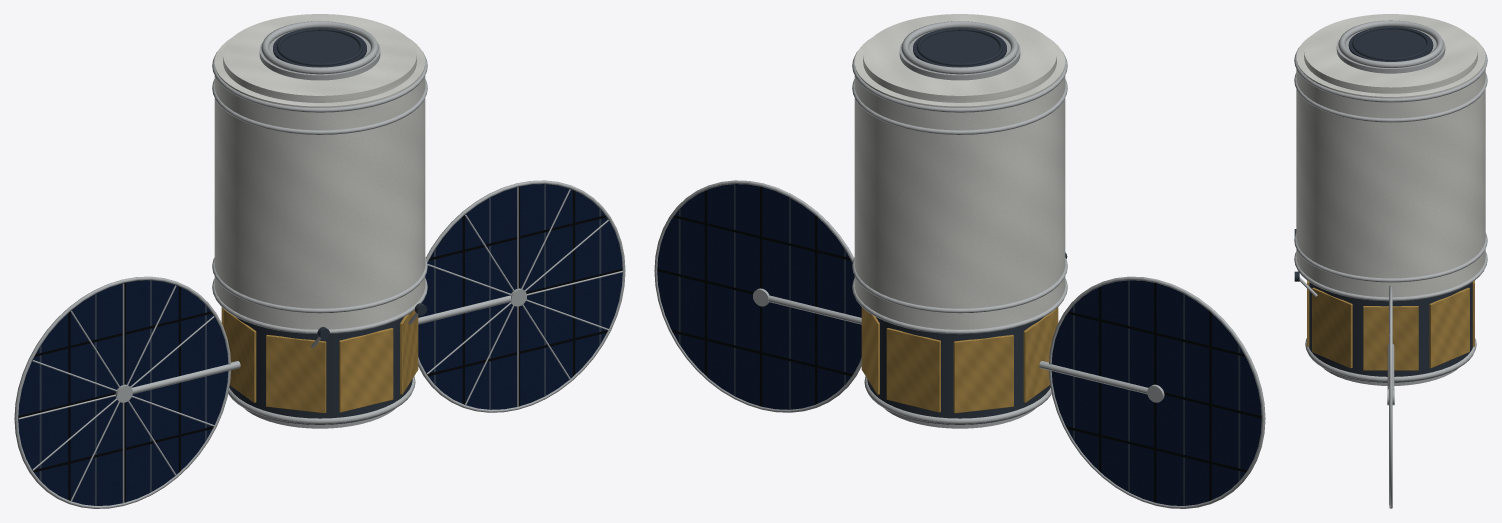
Rendered from cargo_spacecraft_base.glb.
3 views of the same model, side by side, from view 1: azimuth 30°, elevation 25°; view 2: azimuth 150°, elevation 25°; view 3: azimuth 270°, elevation 25° (orthographic). The views are drawn at different scales.
Visible parts, largest first — view 1: Cargo_PressureHull, SolarArray_Disc, SolarArray_Disc.001, Cargo_EndCap, Service_Thermal_Panel.005, Service_Section, Service_Thermal_Panel.006, SolarArray_Rim, Berthing_DarkAperture, SolarArray_Rim.001, Service_Thermal_Panel.004, Berthing_OuterRing (+10 smaller); view 2: Cargo_PressureHull, SolarArray_Disc, SolarArray_Disc.001, Cargo_EndCap, Service_Section, Service_Thermal_Panel.003, Service_Thermal_Panel.002, SolarArray_Rim, Berthing_DarkAperture, SolarArray_Rim.001, Service_Thermal_Panel.004, Berthing_OuterRing (+10 smaller); view 3: Cargo_PressureHull, Cargo_EndCap, Service_Section, Service_Thermal_Panel, Service_Thermal_Panel.001, Service_Thermal_Panel.007, Berthing_DarkAperture, Berthing_OuterRing, Service_Rim, Cargo_HullRing.003, Cargo_HullRing.002, Cargo_HullRing.001 (+5 smaller).
Part boxes in pixels (x1,y1,x2,y2): Cargo_PressureHull: [214, 37, 425, 329]; SolarArray_Disc: [18, 280, 228, 505]; SolarArray_Disc.001: [418, 184, 622, 409]; Cargo_EndCap: [223, 14, 416, 102]; Service_Thermal_Panel.005: [266, 335, 326, 413]; Service_Section: [229, 317, 412, 424]; Service_Thermal_Panel.006: [339, 328, 393, 412]; SolarArray_Rim: [14, 276, 230, 508]; Berthing_DarkAperture: [273, 28, 366, 67]; SolarArray_Rim.001: [418, 180, 625, 412]; Service_Thermal_Panel.004: [223, 309, 256, 402]; Berthing_OuterRing: [261, 21, 378, 74]; Cargo_PressureHull: [854, 37, 1065, 329]; SolarArray_Disc: [1051, 280, 1261, 505]; SolarArray_Disc.001: [657, 184, 861, 409]; Cargo_EndCap: [863, 14, 1056, 102]; Service_Section: [867, 317, 1050, 424]; Service_Thermal_Panel.003: [953, 335, 1013, 413]; Service_Thermal_Panel.002: [886, 328, 940, 412]; SolarArray_Rim: [1049, 276, 1265, 508]; Berthing_DarkAperture: [913, 28, 1006, 67]; SolarArray_Rim.001: [654, 180, 861, 412]; Service_Thermal_Panel.004: [1023, 309, 1056, 402]; Berthing_OuterRing: [901, 21, 1018, 74]; Cargo_PressureHull: [1296, 35, 1485, 297]; Cargo_EndCap: [1304, 14, 1477, 93]; Service_Section: [1309, 282, 1472, 382]; Service_Thermal_Panel: [1363, 306, 1418, 370]; Service_Thermal_Panel.001: [1429, 287, 1469, 368]; Service_Thermal_Panel.007: [1312, 287, 1352, 368]; Berthing_DarkAperture: [1348, 26, 1433, 61]; Berthing_OuterRing: [1338, 20, 1443, 67]; Service_Rim: [1305, 338, 1476, 382]; Cargo_HullRing.003: [1294, 48, 1487, 102]; Cargo_HullRing.002: [1294, 73, 1487, 122]; Cargo_HullRing.001: [1294, 233, 1487, 282].
Bounding box in the file's own units: 10.04 × 6.49 × 3.07.
Materials: 5 (3 with a texture image).
